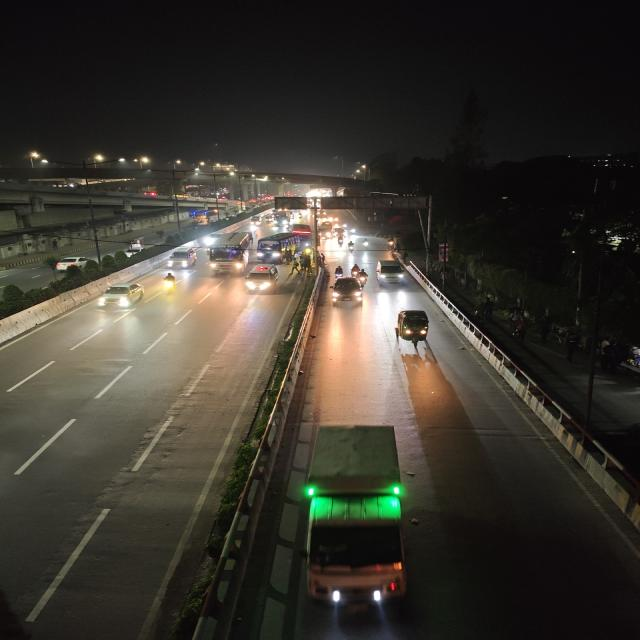bus: (205, 231, 253, 276), (256, 232, 295, 264), (188, 208, 210, 222)
car: (96, 282, 146, 312), (328, 276, 366, 310), (243, 263, 282, 295), (373, 258, 408, 286), (47, 254, 94, 274), (165, 244, 200, 270)
cng: (391, 308, 436, 356)
motorcycle: (157, 270, 181, 296), (354, 266, 369, 288), (332, 264, 344, 282), (344, 241, 356, 251)
pedestrian: (297, 260, 307, 274), (292, 260, 301, 274)
truck: (287, 410, 422, 614)
